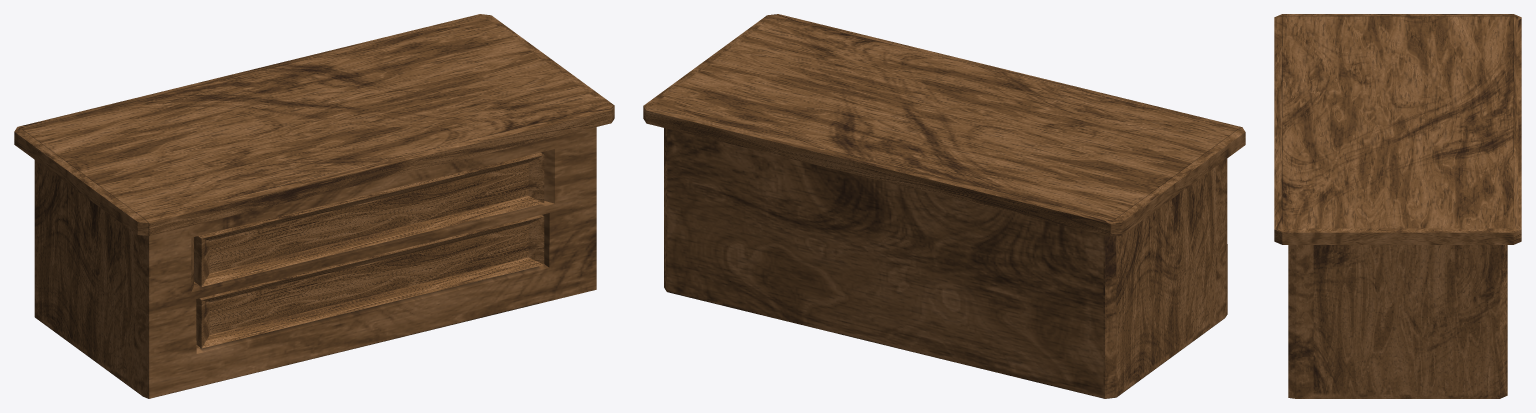
The model's file is armoire.glb.
3 renders of one model, left to right at view 1: azimuth 30°, elevation 25°; view 2: azimuth 150°, elevation 25°; view 3: azimuth 270°, elevation 25°, orthographic. The views are drawn at different scales.
Parts seen in each view (by area): view 1: Cube, tirroir haut, tirroir haut.001; view 2: Cube; view 3: Cube.
Boxes of the visible parts, box(x1,y1,x2,y2) form: Cube: box(14, 14, 614, 398); tirroir haut: box(194, 152, 544, 286); tirroir haut.001: box(196, 215, 544, 348); Cube: box(643, 14, 1245, 398); Cube: box(1274, 14, 1521, 398).
Size of the model in its own units: 4.72 by 1.75 by 2.25.
2 materials, 2 textured.
